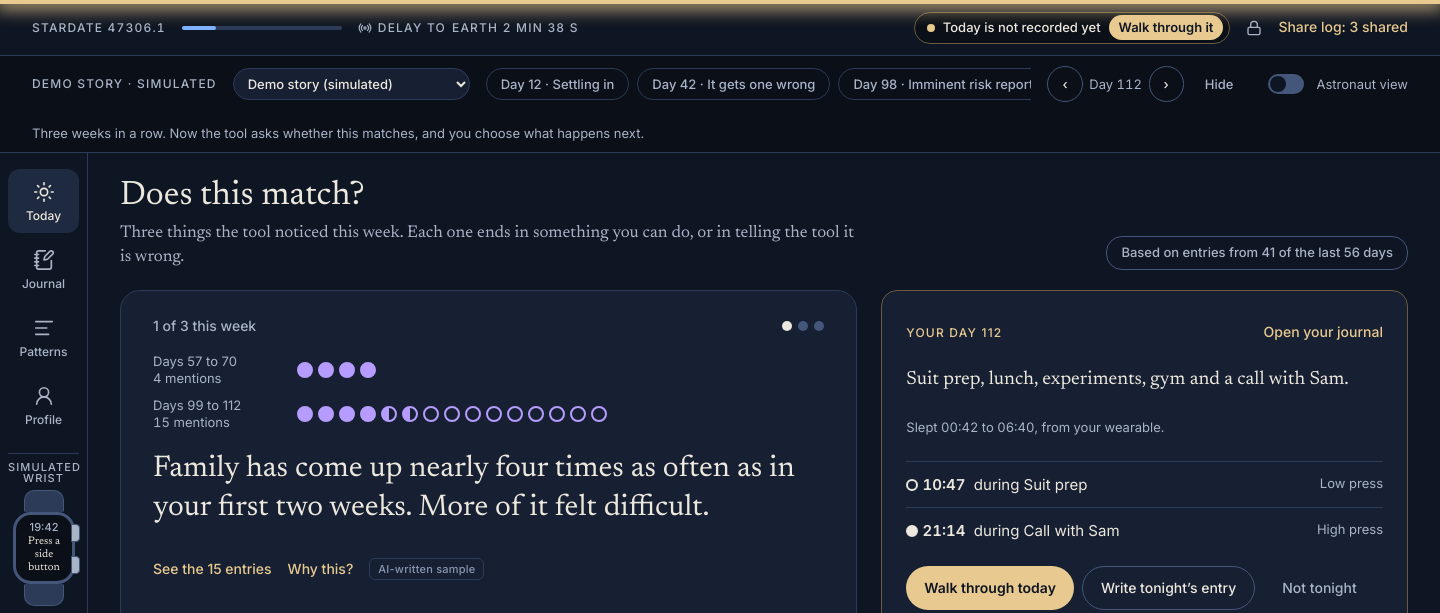
one page: the daily SBAR sits above the body trends, and any of the last 14 days can be picked
Click the switch named "Flight surgeon view".
click(1286, 84)  # box [1268,74,1304,94]
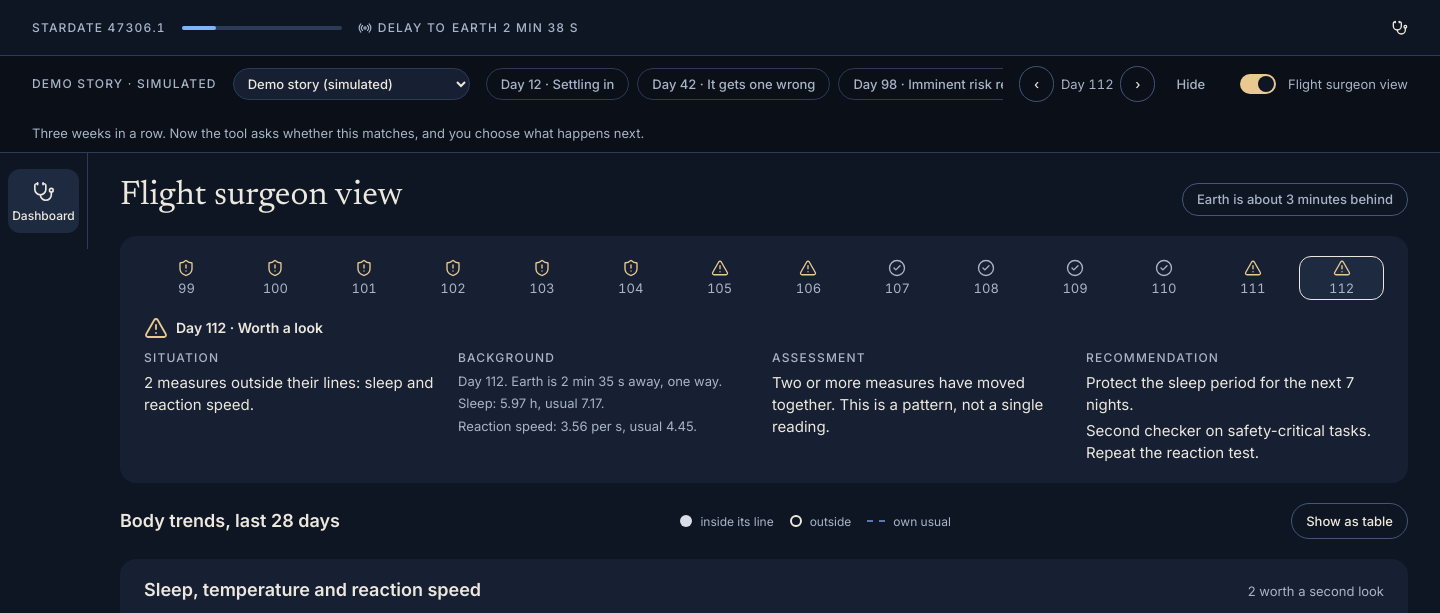
Now the text "2 measures outside their lines: sleep and reaction speed." is shown, box [144,372,442,416]
Now the text "Two or more measures have moved together" is shown, box [772,373,1043,436]
Now the text "Protect the sleep period for the next 7 nights." is shown, box [1086,372,1384,416]
Click the button named "Day 104: Imminent-risk alert".
click(631, 278)  # box [588,256,673,300]
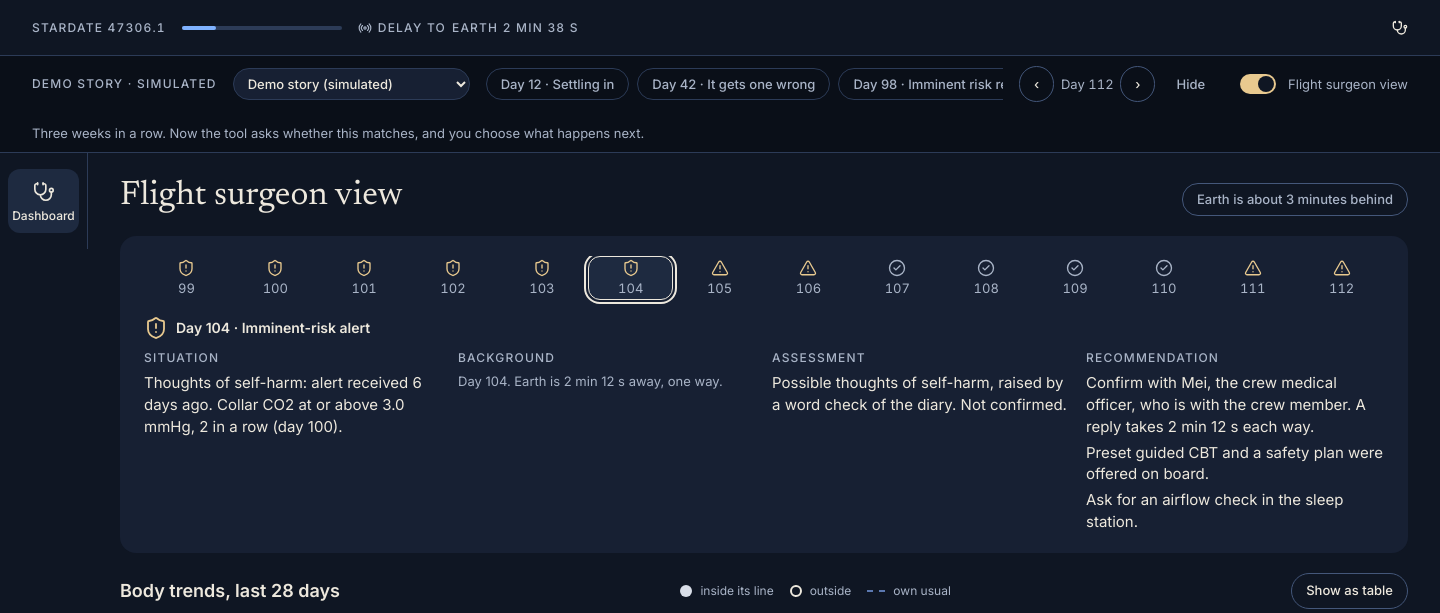
Now the text "Thoughts of self-harm: alert received 6 days ago." is shown, box [144,373,422,436]
